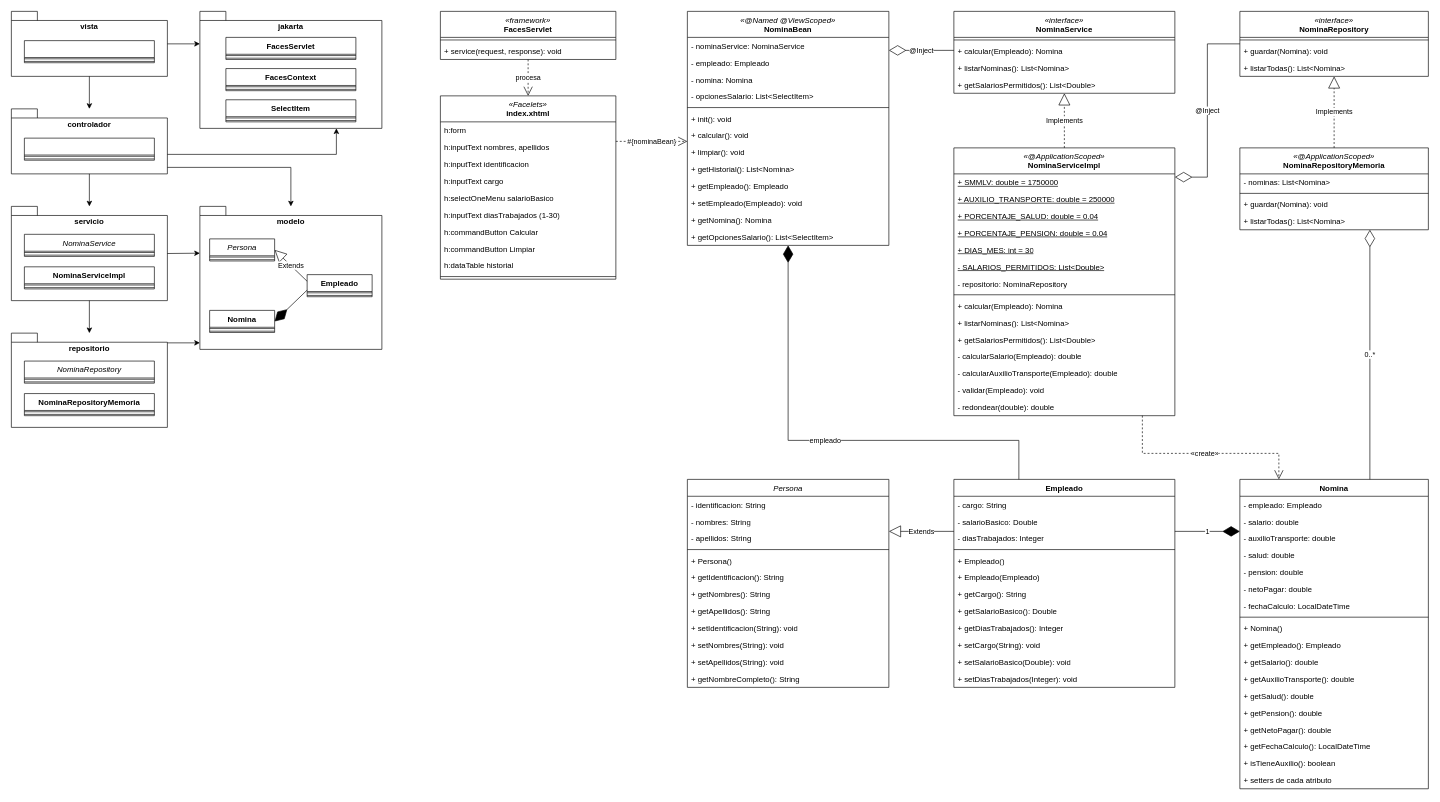
The diagram is 1440 pixels wide and 802 high, and some of its shapes have lost their labels. Each missing label, with the centre of its shape:
index.xhtml: (x=89, y=51)
NominaBean: (x=89, y=148)
